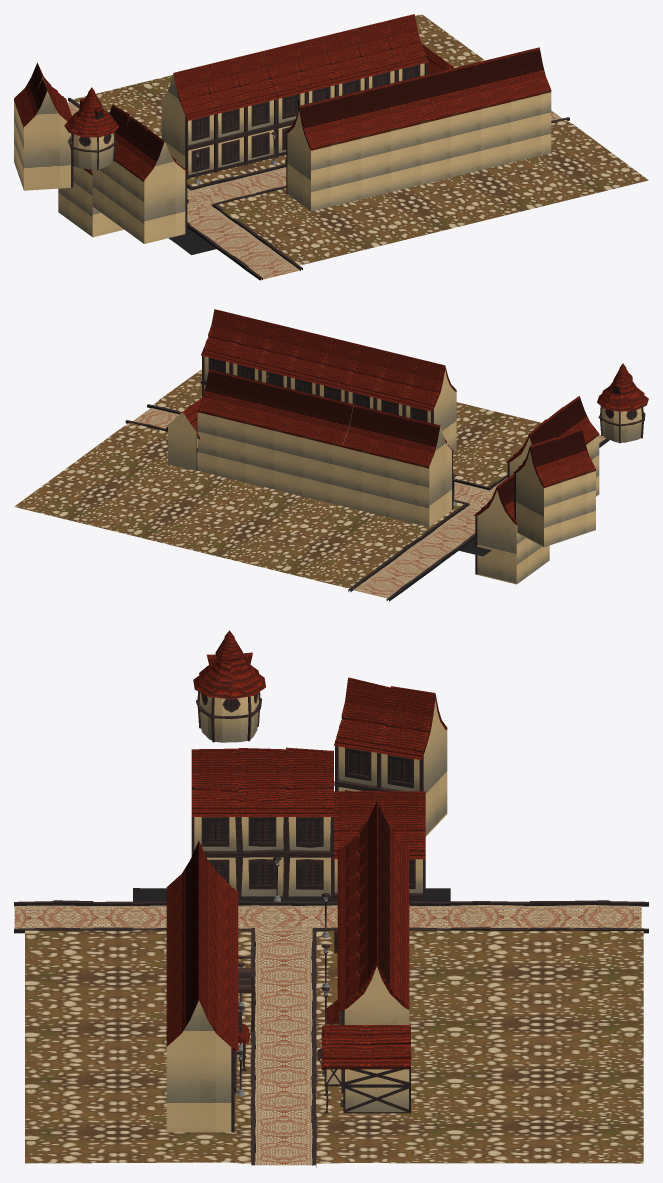
File: town1_alley.fbx
3 views of the same model, one above another, from view 1: azimuth 30°, elevation 25°; view 2: azimuth 150°, elevation 25°; view 3: azimuth 270°, elevation 25° (orthographic). The views are drawn at different scales.
Parts seen in each view (by area): view 1: Cube.019, Cube.009, Cube.024, Cube.011, Cube.016, Cube.025, Cube.013, Cube.005, Cube.006, Cube.008, Cube.012, Cube.014 (+15 smaller); view 2: Cube.019, Cube.009, Cube.023, Cube.016, Cube.020, Cube.018, Cube.017, Cube.007, Cube.003, Cube.015, Cube.011, Cube.002 (+14 smaller); view 3: Cube.019, Cube.009, Cube.005, Cube, Cube.023, Cube.021, Cube.022, Cube.024, Cylinder, Cube.025, Cube.007, Cube.020 (+15 smaller).
Boxes of the visible parts, x1=… form: Cube.019: x1=70, y1=14, x2=648, y2=265; Cube.009: x1=67, y1=97, x2=569, y2=280; Cube.024: x1=126, y1=128, x2=189, y2=243; Cube.011: x1=285, y1=98, x2=341, y2=211; Cube.016: x1=161, y1=65, x2=217, y2=179; Cube.025: x1=19, y1=79, x2=73, y2=190; Cube.013: x1=389, y1=76, x2=431, y2=189; Cube.005: x1=509, y1=47, x2=551, y2=160; Cube.006: x1=449, y1=62, x2=491, y2=174; Cube.008: x1=419, y1=69, x2=461, y2=181; Cube.012: x1=329, y1=91, x2=371, y2=203; Cube.014: x1=359, y1=84, x2=401, y2=196; Cube.019: x1=14, y1=369, x2=541, y2=588; Cube.009: x1=125, y1=404, x2=609, y2=601; Cube.023: x1=513, y1=437, x2=570, y2=547; Cube.016: x1=400, y1=418, x2=453, y2=526; Cube.020: x1=473, y1=474, x2=533, y2=584; Cube.018: x1=313, y1=397, x2=353, y2=505; Cube.017: x1=342, y1=404, x2=382, y2=512; Cube.007: x1=197, y1=369, x2=237, y2=477; Cube.003: x1=255, y1=383, x2=295, y2=491; Cube.015: x1=371, y1=411, x2=411, y2=519; Cube.011: x1=403, y1=358, x2=456, y2=452; Cube.002: x1=284, y1=390, x2=324, y2=498; Cube.019: x1=25, y1=930, x2=643, y2=1163; Cube.009: x1=14, y1=888, x2=648, y2=1167; Cube.005: x1=166, y1=980, x2=238, y2=1132; Cube: x1=321, y1=1025, x2=411, y2=1113; Cube.023: x1=377, y1=686, x2=447, y2=836; Cube.021: x1=286, y1=747, x2=333, y2=897; Cube.022: x1=238, y1=748, x2=286, y2=897; Cube.024: x1=191, y1=748, x2=239, y2=897; Cylinder: x1=193, y1=630, x2=265, y2=742; Cube.025: x1=333, y1=677, x2=390, y2=791; Cube.007: x1=337, y1=941, x2=409, y2=1093; Cube.020: x1=380, y1=791, x2=425, y2=899.
Bounding box in the file's own units: 3762 × 1320 × 2977.
